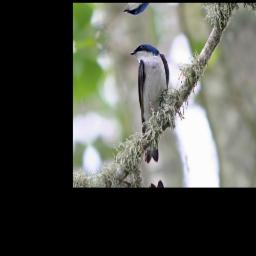Swallow: (124, 37, 184, 167)
